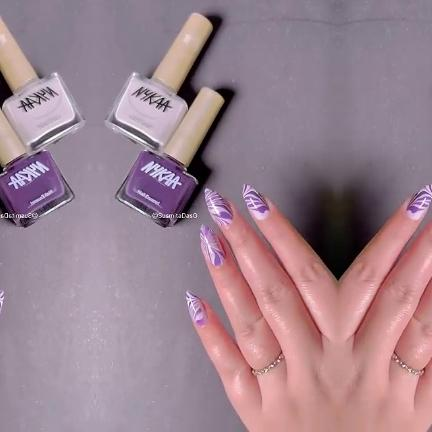Nail: (198, 224, 225, 267), (203, 188, 232, 226), (241, 183, 269, 220), (405, 183, 432, 220), (184, 289, 207, 327), (0, 289, 4, 313)
